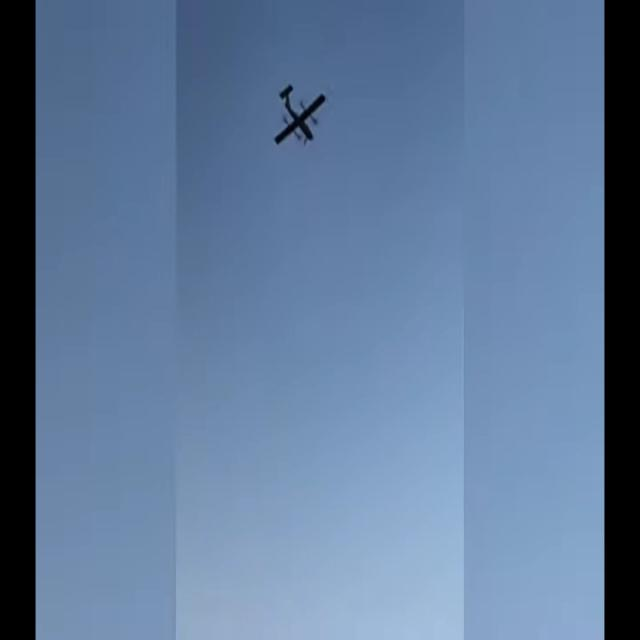iha: (274, 51, 327, 55)
